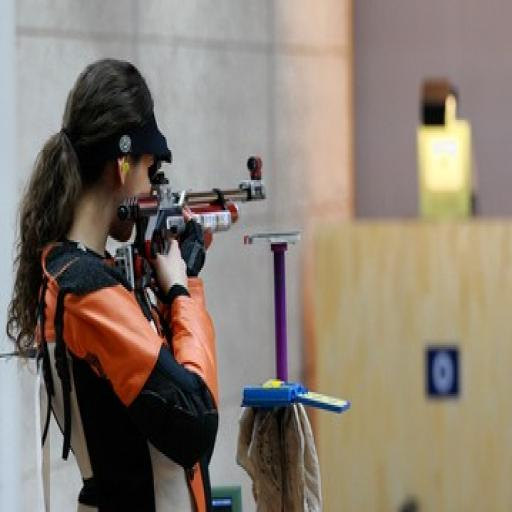shooting: (4, 53, 224, 510)
